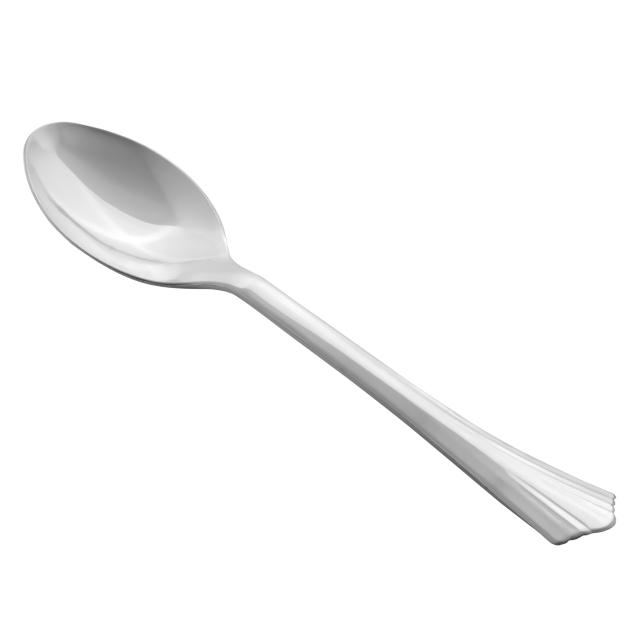spoon: (15, 117, 626, 550)
